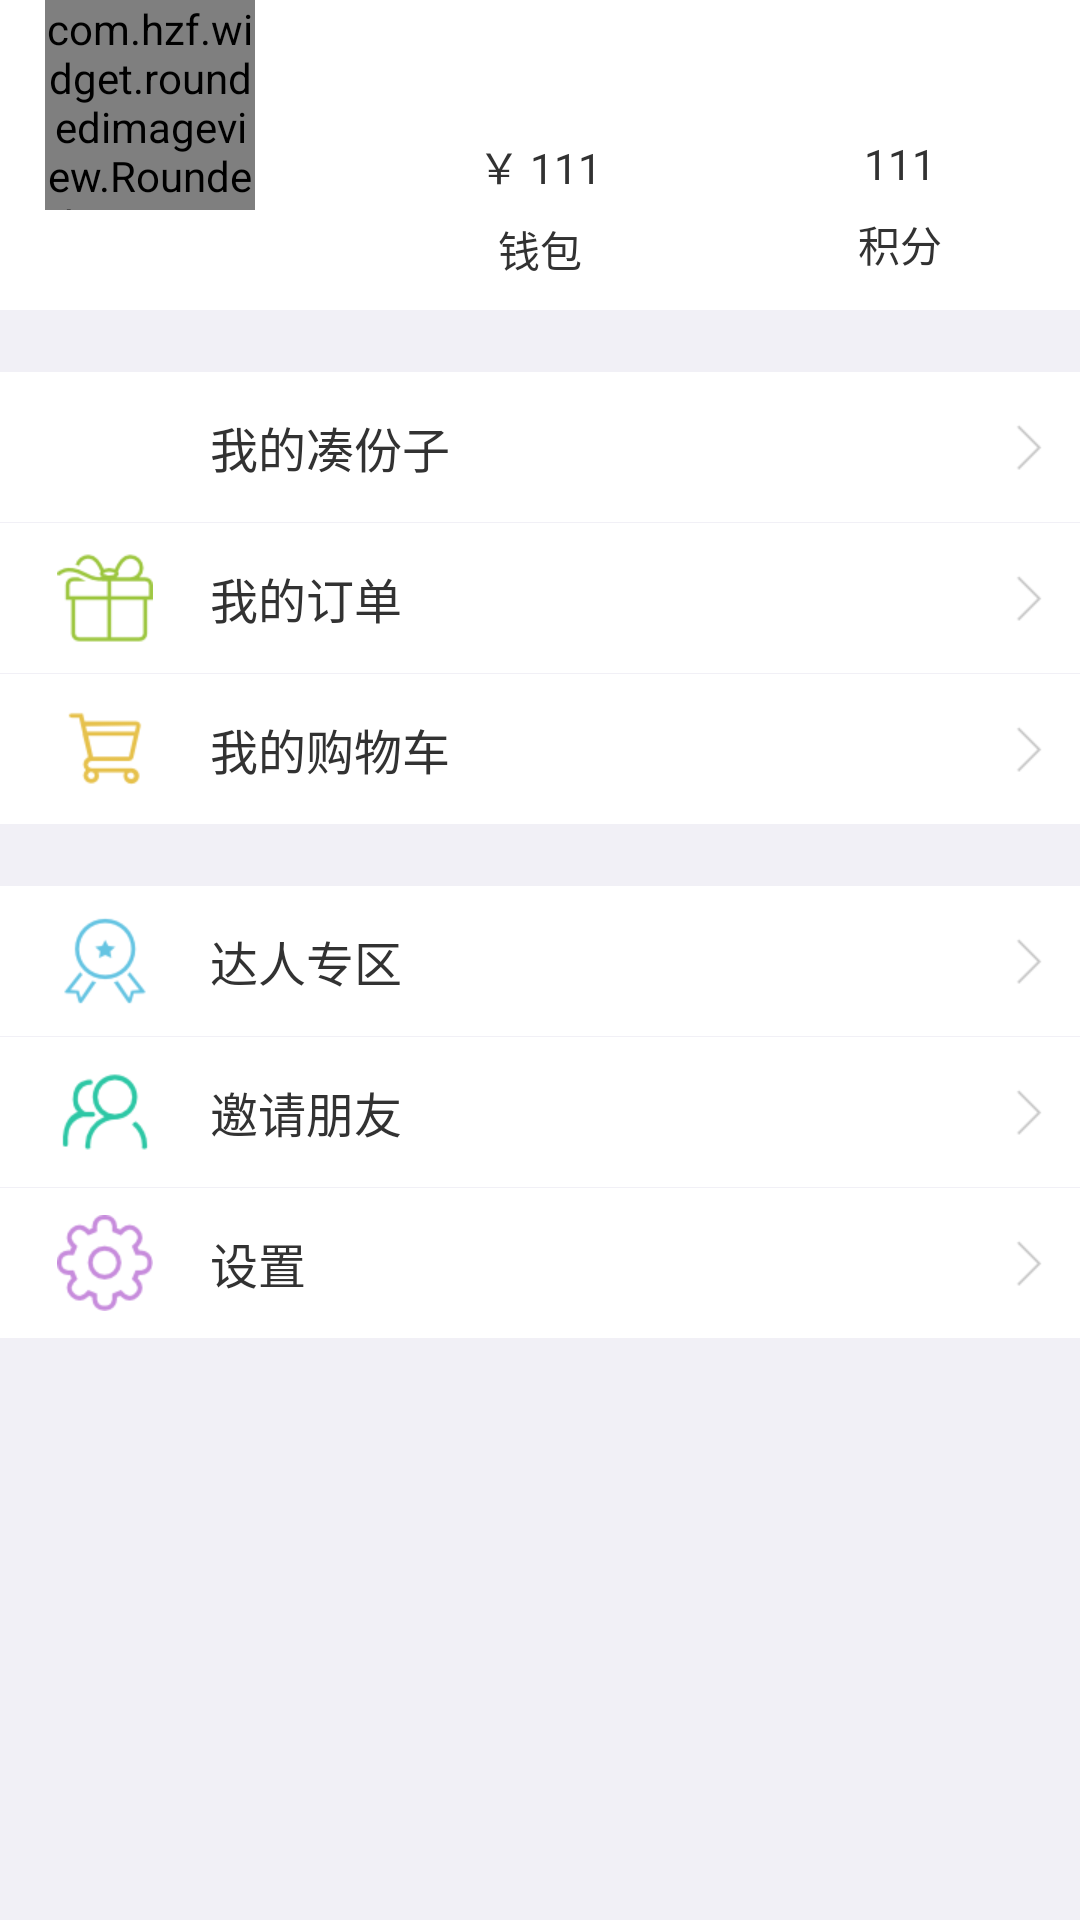

Named icons in this screenshot (1080px×1920px) and their centers, (x=x, y=y):
user cart: (x=105, y=748)
user friends: (x=105, y=1112)
user setting: (x=105, y=1263)
